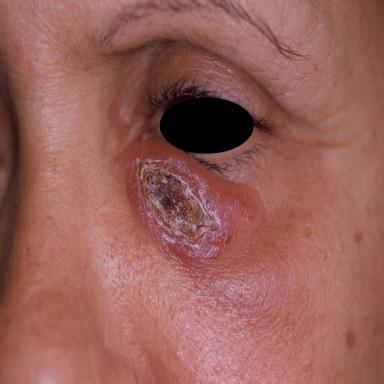Leishmanios: (136, 159, 233, 260)
